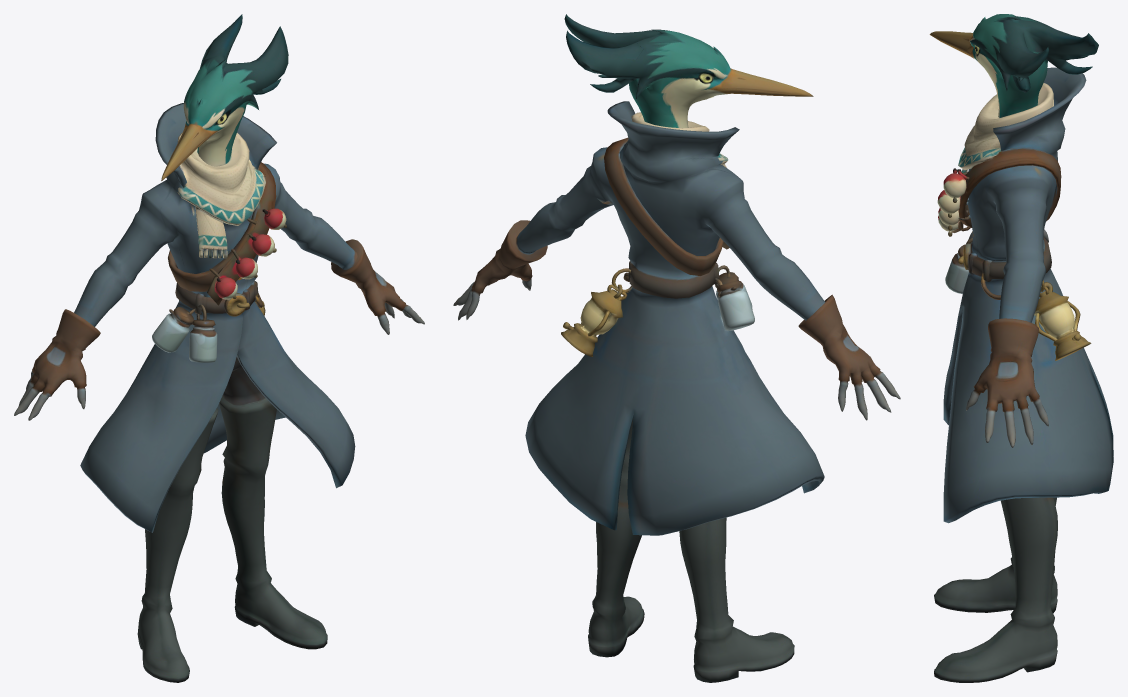
File: roseau_v1.glb
The picture shows the model from 3 angles, left to right: view 1: azimuth 30°, elevation 25°; view 2: azimuth 150°, elevation 25°; view 3: azimuth 270°, elevation 25°; orthographic projection. The views are drawn at different scales.
Visible parts, largest first — view 1: roseau_v1; view 2: roseau_v1; view 3: roseau_v1.
Part boxes in pixels (left/top/right/bottom): roseau_v1: left=14, top=14, right=424, bottom=682; roseau_v1: left=453, top=14, right=900, bottom=682; roseau_v1: left=929, top=14, right=1113, bottom=682.
Bounding box in the file's own units: 0.7192 × 0.9995 × 0.2612.
Materials: 1 (1 with a texture image).
